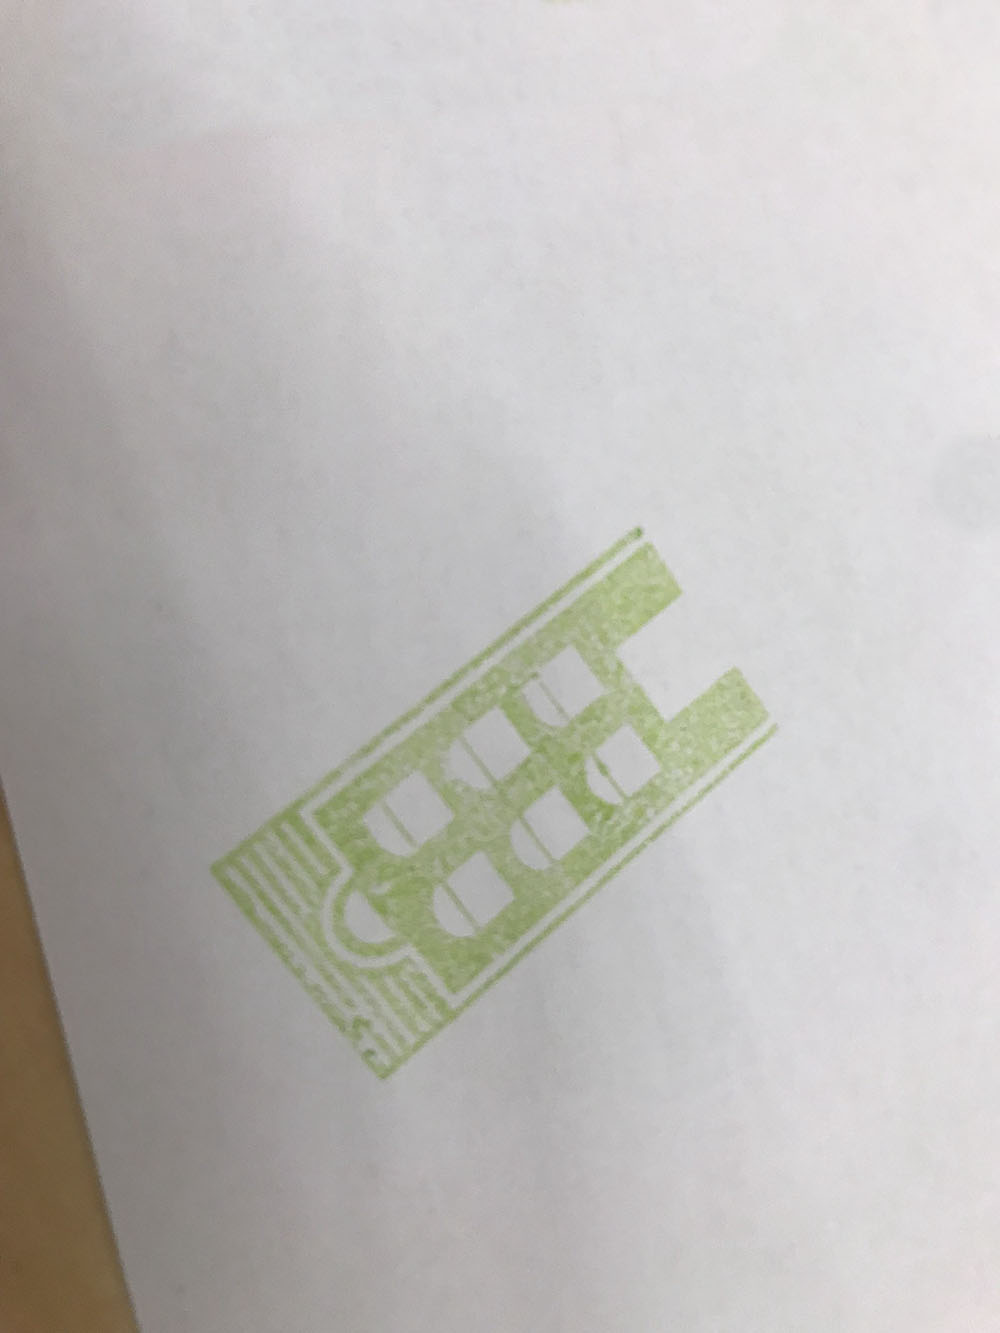build: (164, 497, 803, 1111)
